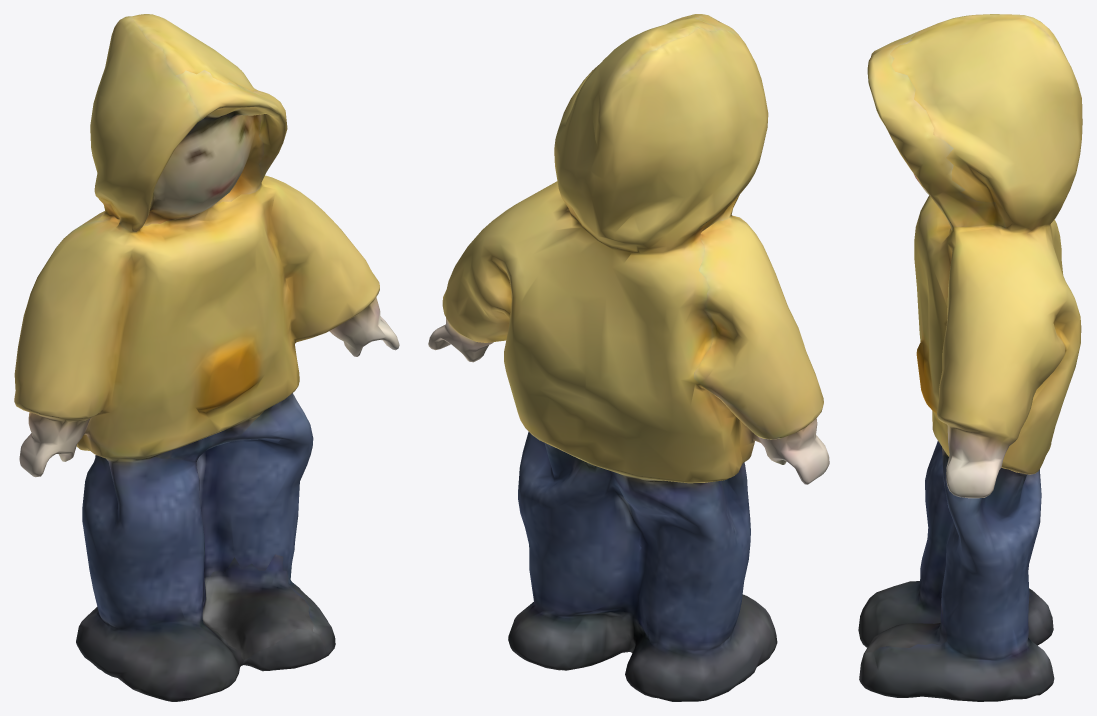
File: 3D_Dollhouse_Happy_Brother-high.glb
3 views of the same model, side by side, from view 1: azimuth 30°, elevation 25°; view 2: azimuth 150°, elevation 25°; view 3: azimuth 270°, elevation 25° (orthographic). The views are drawn at different scales.
Parts seen in each view (by area): view 1: 3D_Dollhouse_Happy_Brother; view 2: 3D_Dollhouse_Happy_Brother; view 3: 3D_Dollhouse_Happy_Brother.
Part boxes in pixels (x1,y1,x2,y2): 3D_Dollhouse_Happy_Brother: (14, 14, 399, 701); 3D_Dollhouse_Happy_Brother: (428, 14, 829, 701); 3D_Dollhouse_Happy_Brother: (858, 14, 1082, 701).
Bounding box in the file's own units: 0.0594 × 0.0955 × 0.0308.
Materials: 1 (1 with a texture image).
